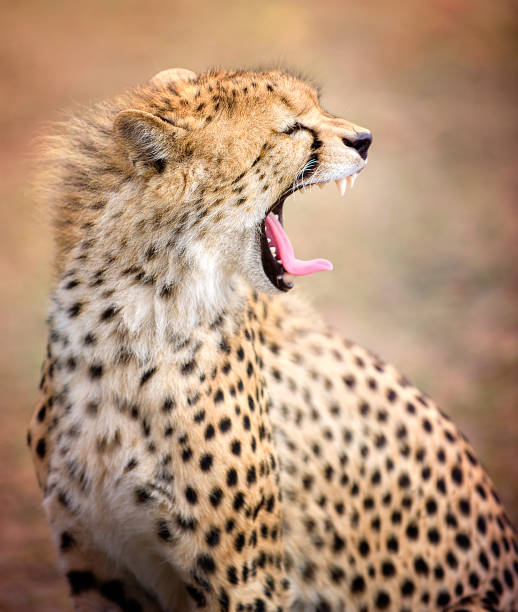cheetah: (119, 57, 379, 322)
